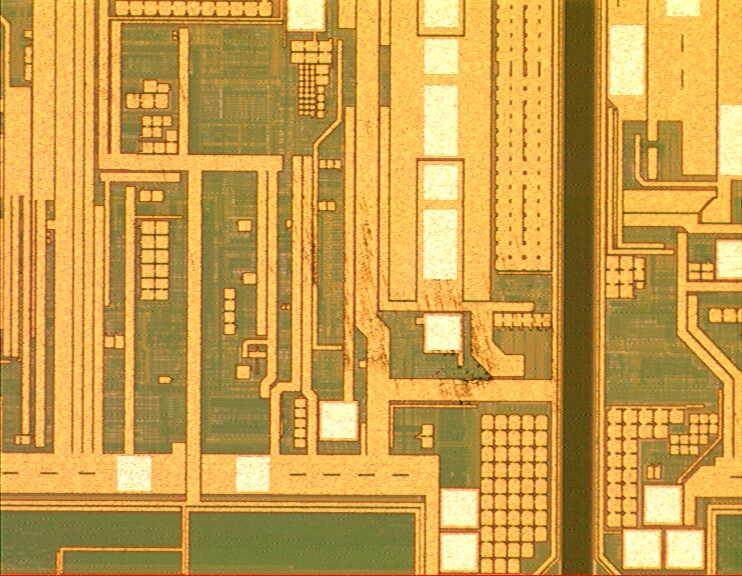SCRATCH: (248, 147, 503, 404)
